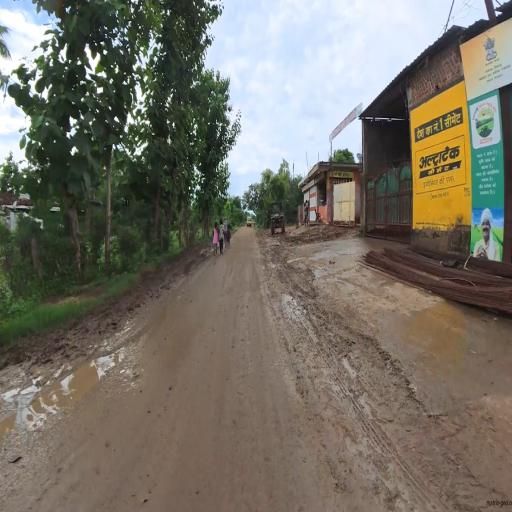edge_damage: (263, 271, 442, 469)
